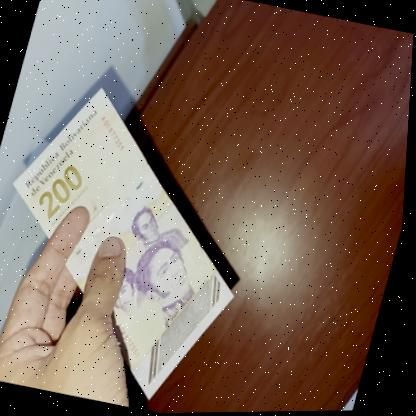two_hundred-front-vef: (0, 71, 286, 415)
